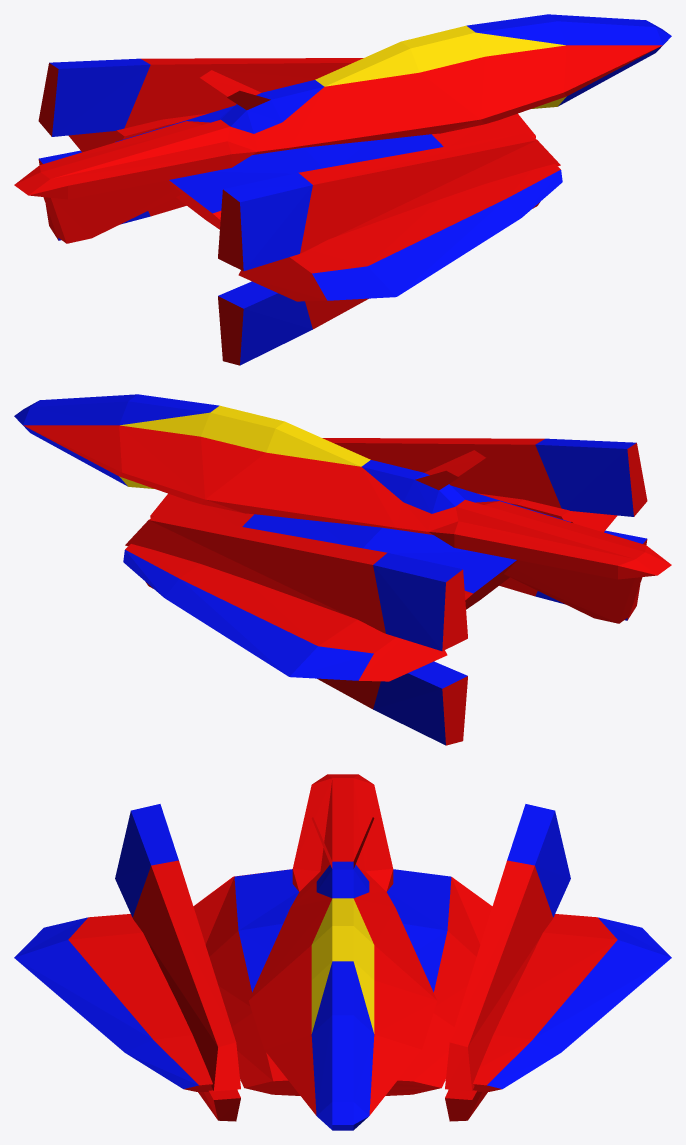
Rendered from AirPlane.FBX.
The picture shows the model from 3 angles, top to bottom: view 1: azimuth 30°, elevation 25°; view 2: azimuth 150°, elevation 25°; view 3: azimuth 270°, elevation 25°; orthographic projection. The views are drawn at different scales.
Parts seen in each view (by area): view 1: VIFS007, VIFS008, VIFS001, VIFS002, VIFS004, VIFS003, VIFS009, VIFS006; view 2: VIFS007, VIFS008, VIFS001, VIFS002, VIFS004, VIFS003, VIFS009, VIFS006; view 3: VIFS007, VIFS008, VIFS001, VIFS002, VIFS003, VIFS006.
Part boxes in pixels (left/top/right/bottom): VIFS007: left=117, top=58, right=560, bottom=329; VIFS008: left=39, top=58, right=562, bottom=365; VIFS001: left=14, top=45, right=662, bottom=199; VIFS002: left=221, top=14, right=671, bottom=133; VIFS004: left=29, top=47, right=659, bottom=243; VIFS003: left=315, top=25, right=566, bottom=108; VIFS009: left=38, top=63, right=243, bottom=365; VIFS006: left=68, top=123, right=535, bottom=301; VIFS007: left=125, top=438, right=568, bottom=709; VIFS008: left=123, top=438, right=646, bottom=745; VIFS001: left=23, top=425, right=671, bottom=579; VIFS002: left=14, top=394, right=464, bottom=513; VIFS004: left=26, top=427, right=656, bottom=623; VIFS003: left=119, top=405, right=370, bottom=488; VIFS009: left=442, top=443, right=647, bottom=745; VIFS006: left=359, top=503, right=617, bottom=681; VIFS007: left=68, top=860, right=617, bottom=1119; VIFS008: left=14, top=804, right=671, bottom=1088; VIFS001: left=248, top=774, right=437, bottom=1115; VIFS002: left=311, top=861, right=374, bottom=1130; VIFS003: left=311, top=898, right=374, bottom=1033; VIFS006: left=184, top=869, right=501, bottom=1121.
Size of the model in its own units: 1.88 by 0.556 by 1.49.
